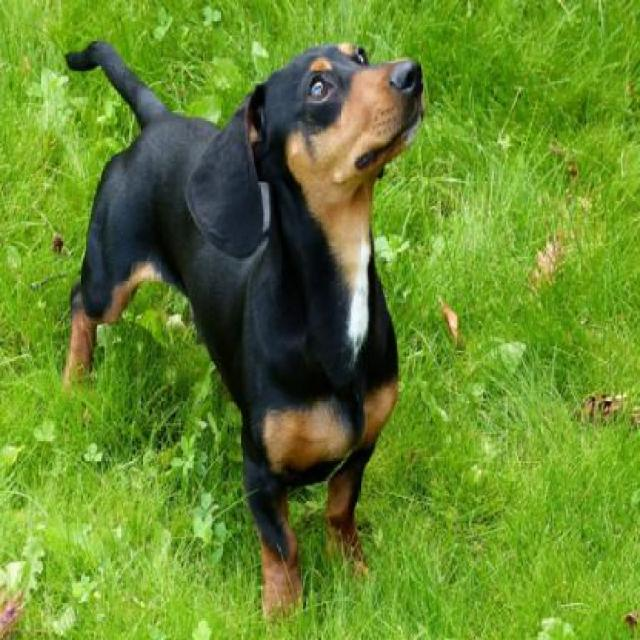Dog: (55, 14, 431, 620)
